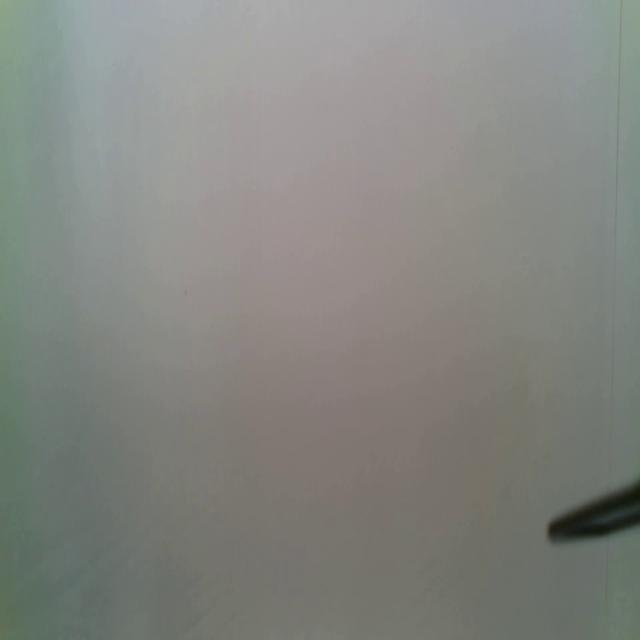crease: (607, 0, 625, 485), (603, 538, 611, 640)
hole: (183, 285, 189, 299)
